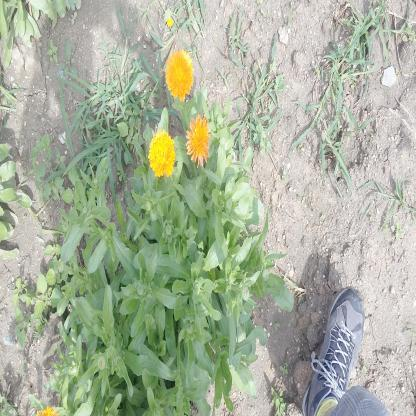marigold: (185, 113, 214, 167), (165, 48, 194, 101), (147, 129, 175, 178)
